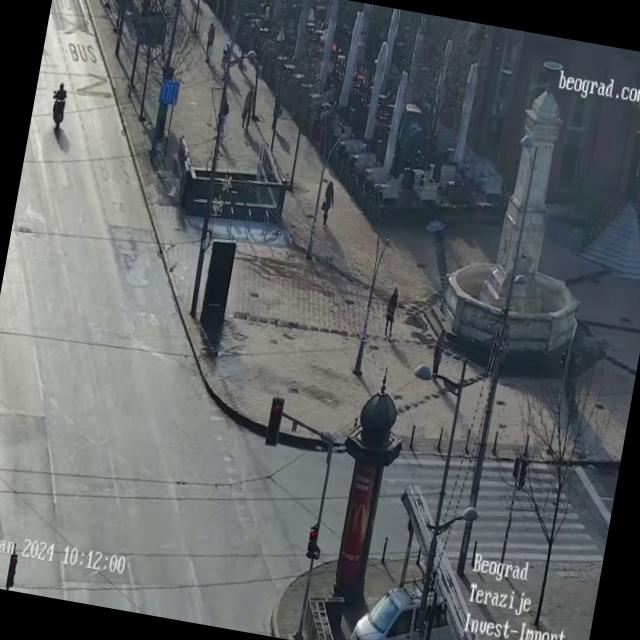car: (347, 575, 470, 640)
